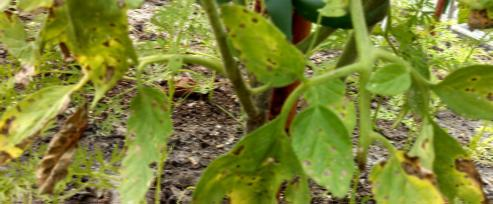Tomato Septoria leaf spot: (53, 0, 146, 104), (223, 5, 304, 94), (0, 84, 81, 169), (286, 106, 359, 199), (116, 87, 172, 204), (416, 124, 493, 204), (371, 150, 458, 204), (436, 64, 493, 132)
